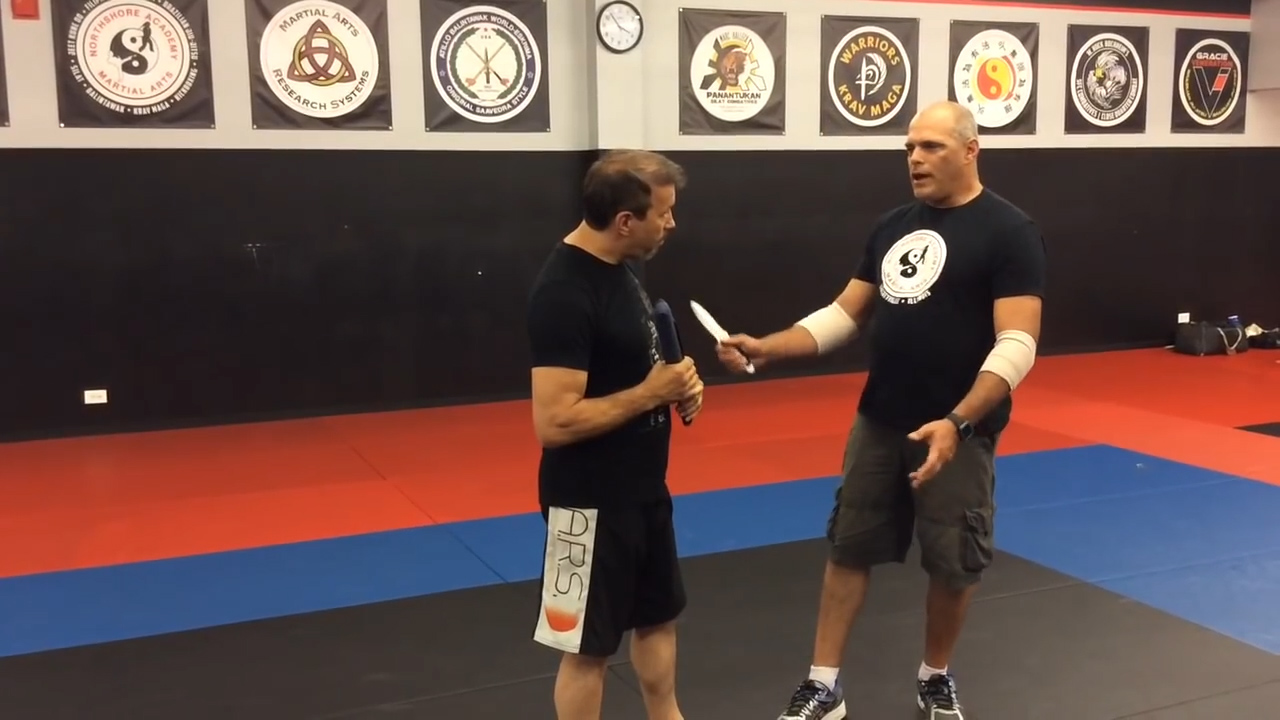knife: (685, 293, 762, 381)
